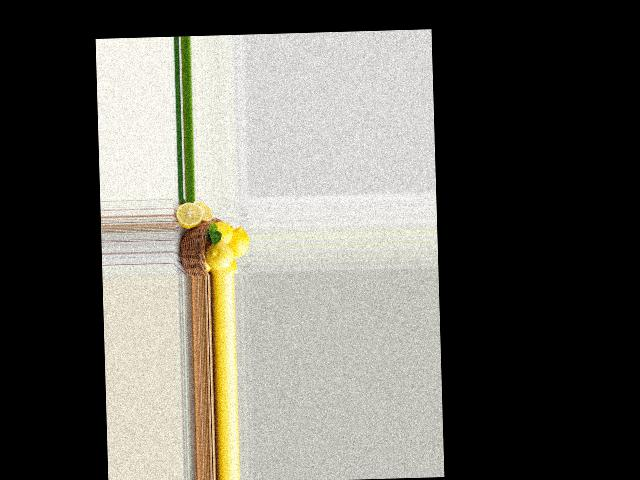lemon: (207, 219, 234, 248)
